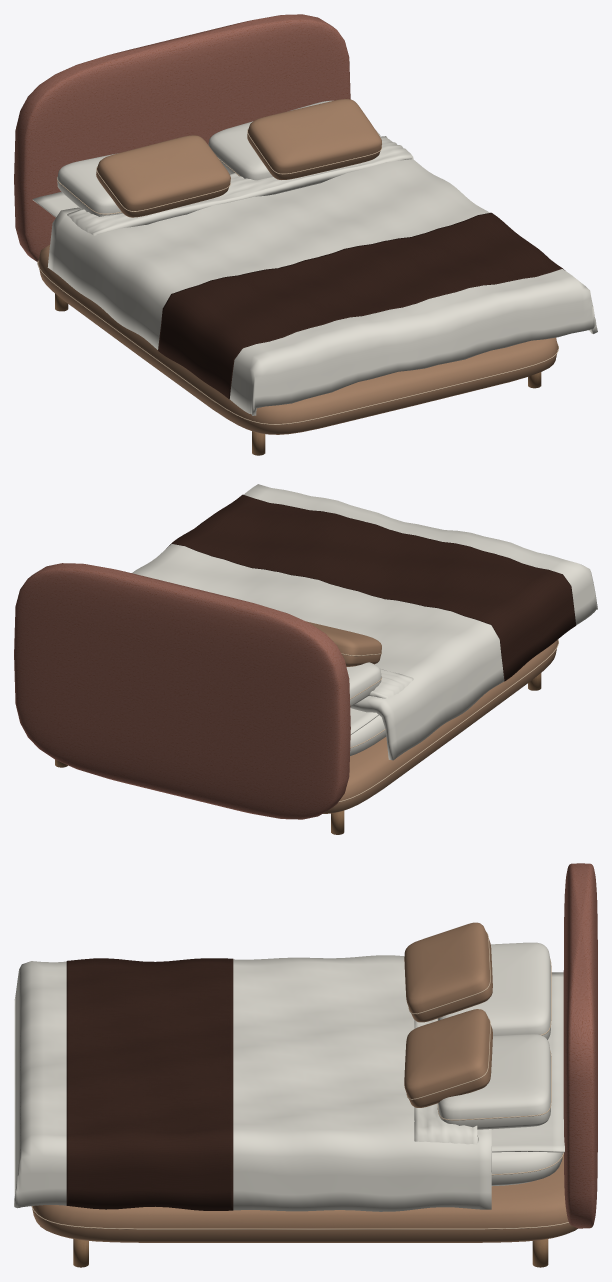
File: traditional.bed.gltf
The picture shows the model from 3 angles, top to bottom: view 1: azimuth 30°, elevation 25°; view 2: azimuth 150°, elevation 25°; view 3: azimuth 270°, elevation 25°; orthographic projection. The views are drawn at different scales.
Visible parts, largest first — view 1: traditional.bed.foot; view 2: traditional.bed.foot; view 3: traditional.bed.foot.
Part boxes in pixels (x1,y1,x2,y2): traditional.bed.foot: (14,14,597,455); traditional.bed.foot: (14,484,597,834); traditional.bed.foot: (14,863,597,1267).
Bounding box in the file's own units: 1.77 × 1.09 × 2.22.
6 materials, 4 textured.
